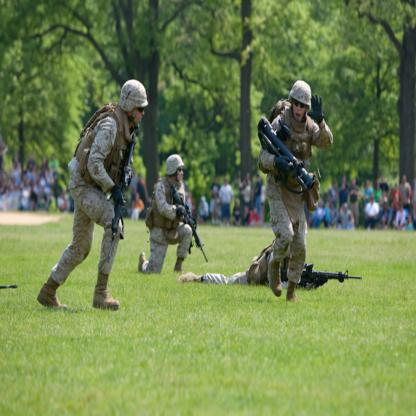Helmet: (115, 79, 144, 129), (288, 80, 314, 117), (163, 153, 185, 184)
